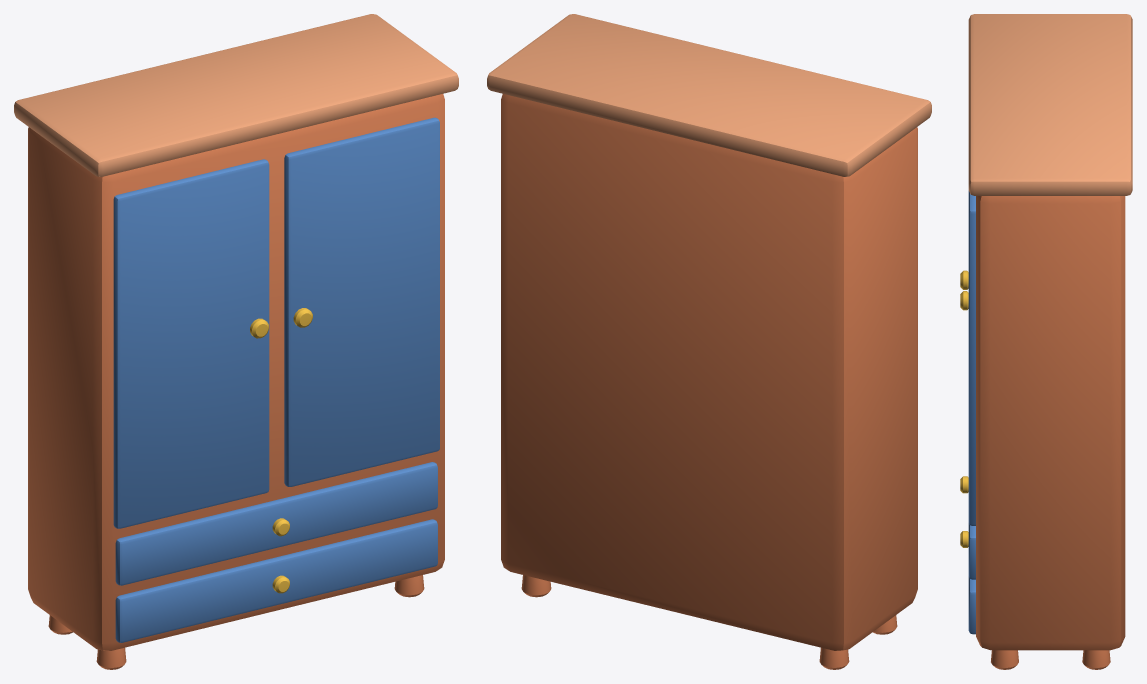
Rendered from guarda-roupa-colorido.glb.
3 renders of one model, left to right at view 1: azimuth 30°, elevation 25°; view 2: azimuth 150°, elevation 25°; view 3: azimuth 270°, elevation 25°, orthographic. The views are drawn at different scales.
Parts seen in each view (by area): view 1: guarda-roupa; view 2: guarda-roupa; view 3: guarda-roupa.
Part boxes in pixels (x1,y1,x2,y2): guarda-roupa: (14,14,458,669); guarda-roupa: (487,14,931,669); guarda-roupa: (960,14,1132,669).
Bounding box in the file's own units: 1.66 × 2.29 × 0.715.
